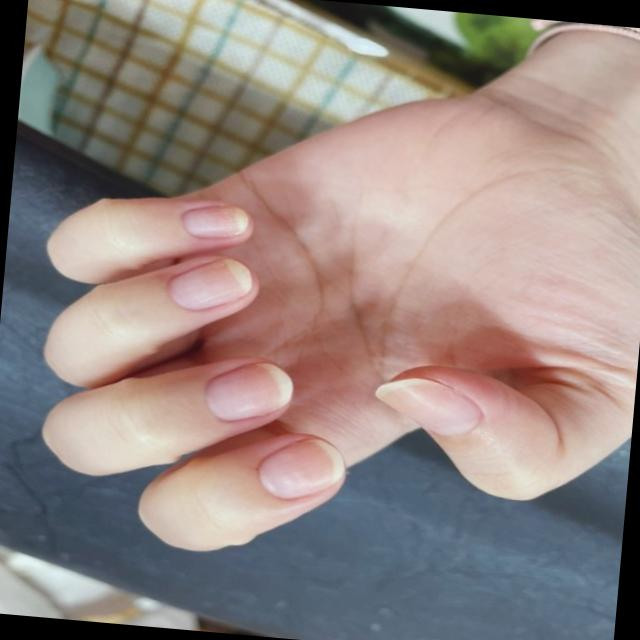Nail: (374, 376, 481, 434), (259, 437, 344, 497), (203, 362, 290, 419), (167, 258, 252, 309), (181, 205, 249, 237)
